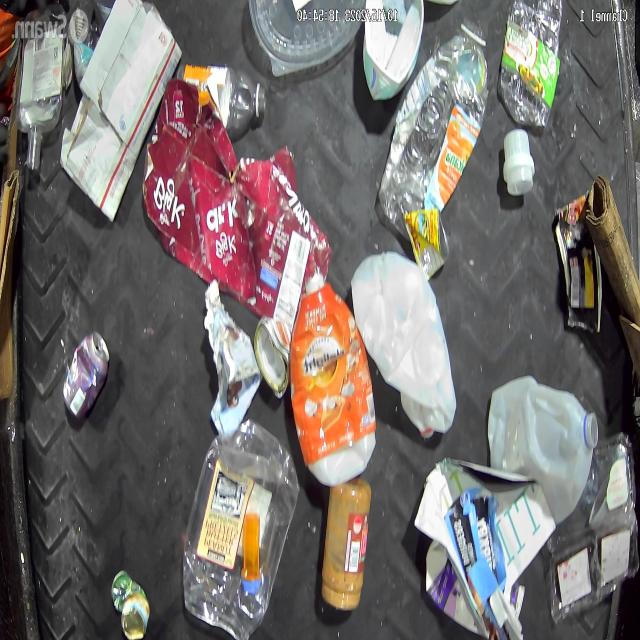can: (62, 330, 110, 422), (402, 208, 450, 278), (253, 316, 290, 398), (111, 568, 151, 640)
milk_jug: (350, 250, 457, 440), (487, 375, 599, 526)
non_white_jug: (289, 272, 376, 486)
plastic_bottle: (181, 420, 300, 640), (377, 16, 487, 241), (498, 0, 562, 128), (177, 64, 266, 132)
